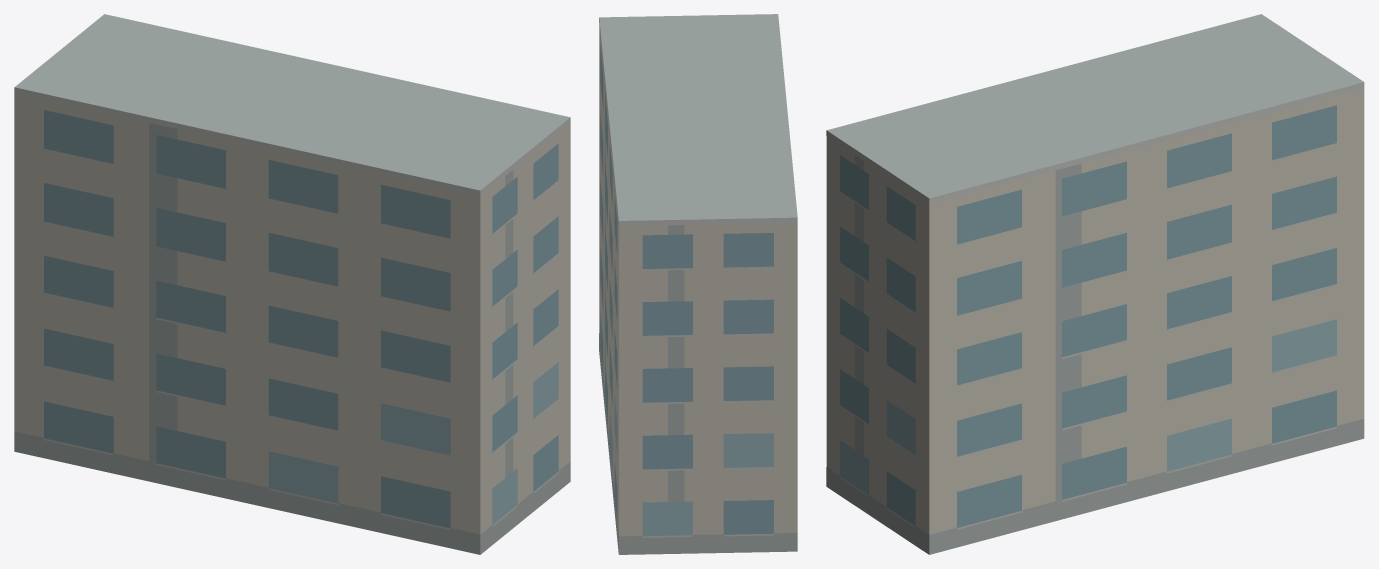
The model's file is survey-upis-32954743.glb.
The picture shows the model from 3 angles, left to right: view 1: azimuth 30°, elevation 25°; view 2: azimuth 150°, elevation 25°; view 3: azimuth 270°, elevation 25°; orthographic projection. The views are drawn at different scales.
Visible parts, largest first — view 1: survey-upis-32954743.tmp; view 2: survey-upis-32954743.tmp; view 3: survey-upis-32954743.tmp.
Part boxes in pixels (x1,y1,x2,y2): survey-upis-32954743.tmp: (14,14,570,554); survey-upis-32954743.tmp: (599,14,797,554); survey-upis-32954743.tmp: (826,14,1364,554).
Size of the model in its own units: 16.93 by 15.25 by 20.86.
